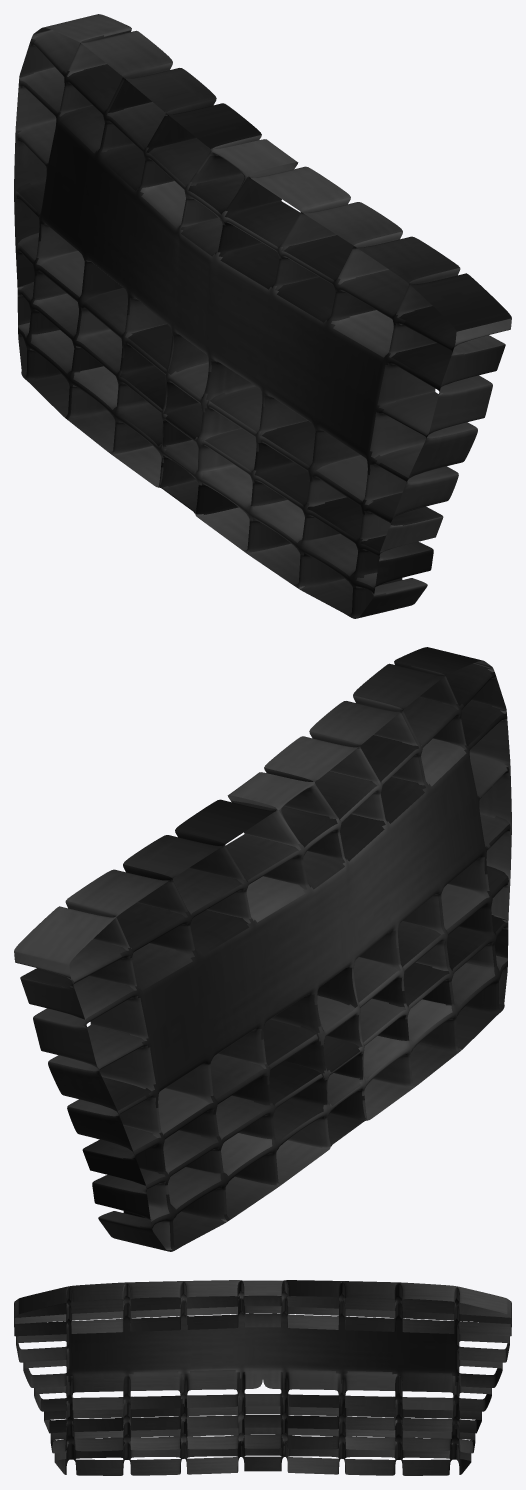
Rendered from parrilla.obj.
The picture shows the model from 3 angles, top to bottom: view 1: azimuth 30°, elevation 25°; view 2: azimuth 150°, elevation 25°; view 3: azimuth 270°, elevation 25°; orthographic projection. The views are drawn at different scales.
Visible parts, largest first — view 1: PARRILLA_Material.044; view 2: PARRILLA_Material.044; view 3: PARRILLA_Material.044.
Part boxes in pixels (box(x1,y1,x2,y2)): PARRILLA_Material.044: box(14, 14, 511, 618); PARRILLA_Material.044: box(14, 647, 511, 1251); PARRILLA_Material.044: box(14, 1280, 511, 1475).
Size of the model in its own units: 0.2586 by 0.6314 by 1.47.
